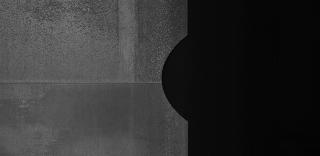welding line: (0, 76, 172, 92)
